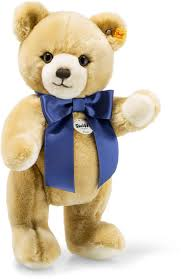teddy: (1, 1, 168, 273)
